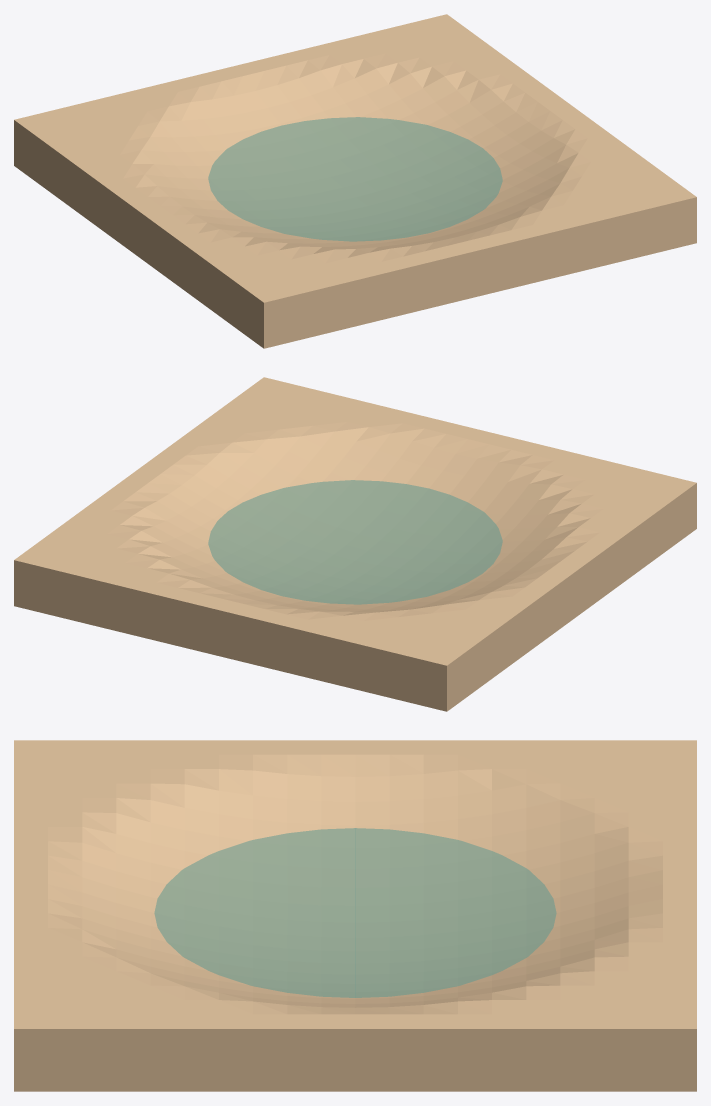
The model's file is desert-canyons-and-oases-oasis-pool-28518ee8__20970.glb.
The picture shows the model from 3 angles, top to bottom: view 1: azimuth 30°, elevation 25°; view 2: azimuth 150°, elevation 25°; view 3: azimuth 270°, elevation 25°; orthographic projection. The views are drawn at different scales.
Parts seen in each view (by area): view 1: oasis-pool; view 2: oasis-pool; view 3: oasis-pool.
Part boxes in pixels (x1=…): oasis-pool: x1=14, y1=14, x2=696, y2=348; oasis-pool: x1=14, y1=377, x2=696, y2=711; oasis-pool: x1=14, y1=740, x2=696, y2=1091.
Bounding box in the file's own units: 6.4 × 0.65 × 6.4.
